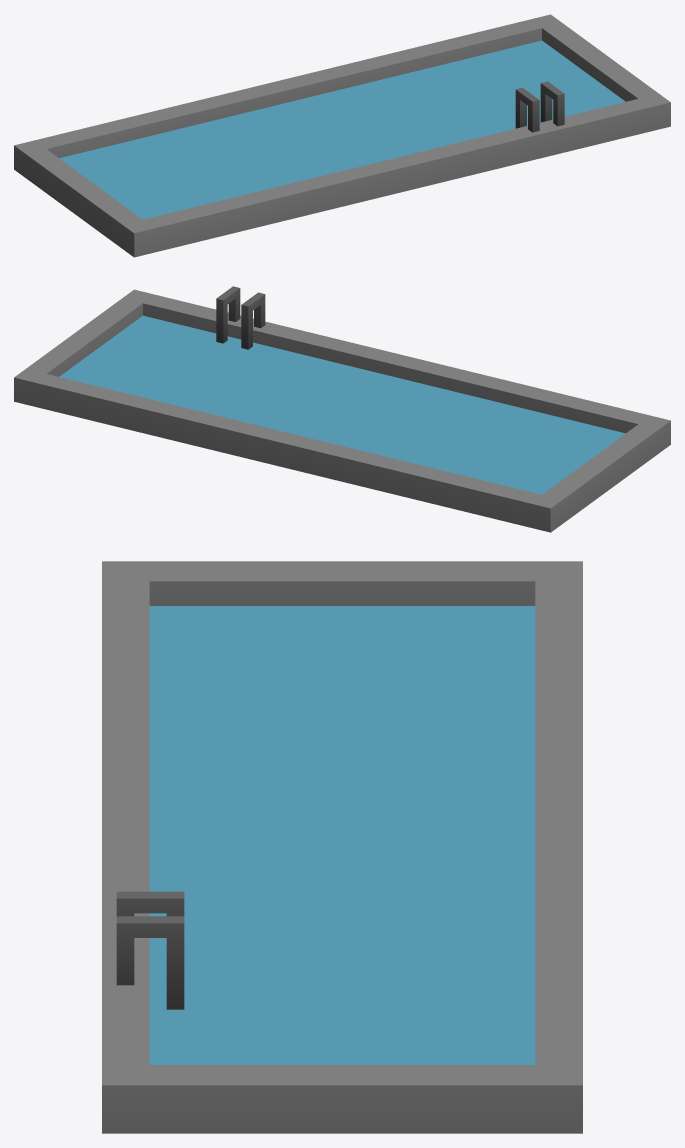
Rendered from swimming pool 2.fbx.
3 renders of one model, top to bottom at view 1: azimuth 30°, elevation 25°; view 2: azimuth 150°, elevation 25°; view 3: azimuth 270°, elevation 25°, orthographic. The views are drawn at different scales.
Visible parts, largest first — view 1: swimming_pool_2; view 2: swimming_pool_2; view 3: swimming_pool_2.
Part boxes in pixels (left/top/right/bottom): swimming_pool_2: left=14, top=14, right=670, bottom=257; swimming_pool_2: left=14, top=286, right=670, bottom=532; swimming_pool_2: left=102, top=561, right=582, bottom=1133.
Size of the model in its own units: 1136 by 111 by 441.
Materials: 1 (1 with a texture image).
